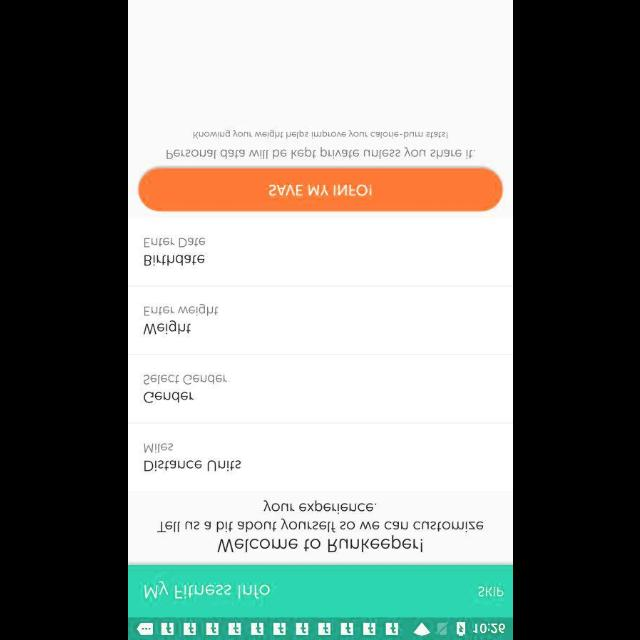text: (157, 499, 483, 553), (164, 147, 476, 159), (192, 128, 448, 140), (144, 579, 270, 599), (144, 458, 240, 472), (144, 303, 218, 317), (143, 373, 227, 385), (143, 319, 191, 335), (143, 237, 205, 249), (143, 254, 204, 266), (142, 391, 194, 404), (142, 442, 174, 454), (476, 585, 504, 597)
textbutton: (138, 167, 502, 211)
toolbar: (128, 565, 512, 617)
uppertaskbar: (128, 617, 512, 639)
